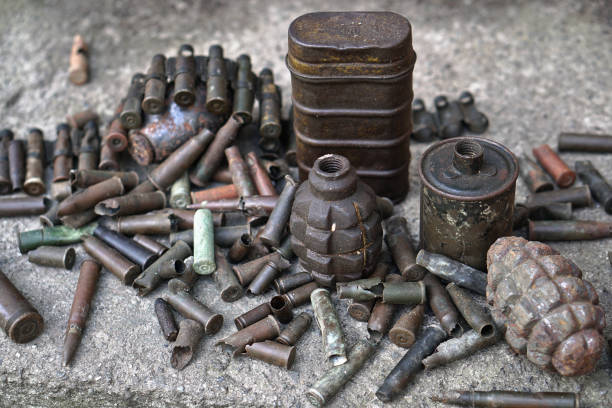e1: (480, 235, 609, 384), (284, 151, 389, 276)
